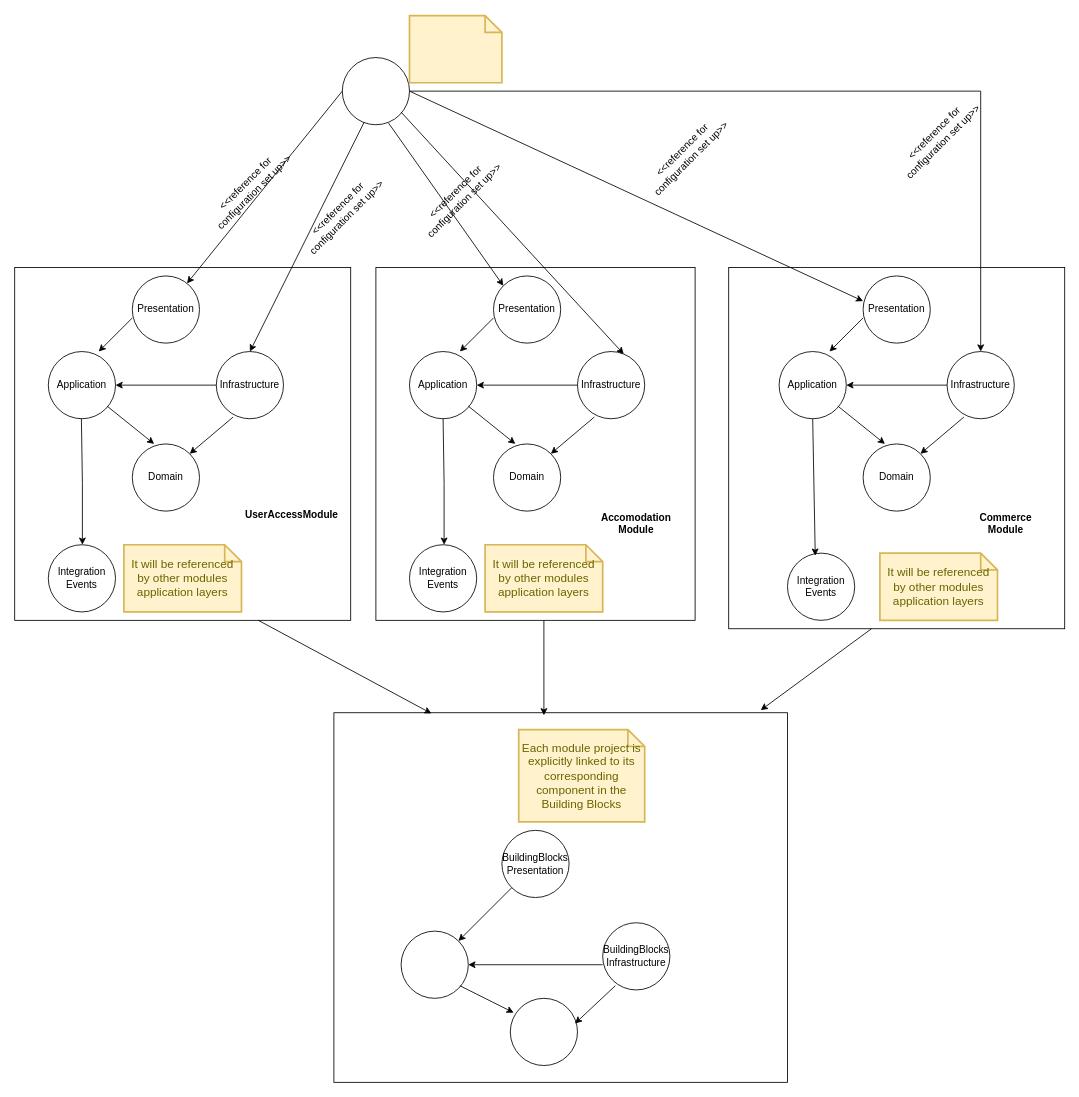
Image size: 1079x1097. Some labels were removed from this diagram. Here are the shapes that lost their labels. From the top down, the centre of each, then its label:
the point at 455,48: Startup Project
the point at 375,91: Booking.App
the point at 434,964: BuildingBlocks Application
the point at 543,1032: BuildingBlocks Domain
